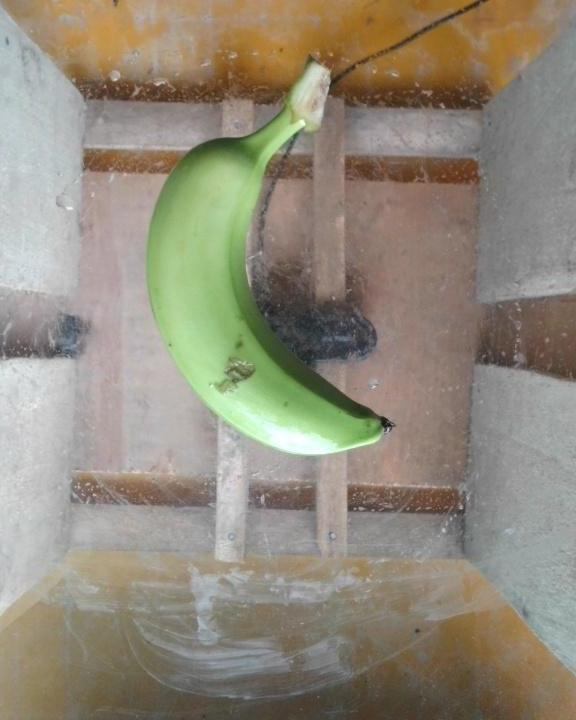CLASS B: (142, 60, 418, 463)
Class A: (216, 356, 268, 393)
